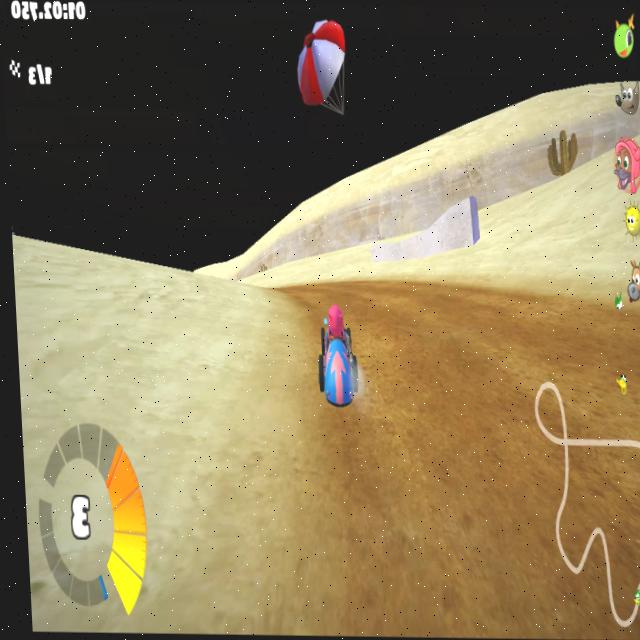player_kart: (314, 304, 363, 407)
track: (358, 311, 640, 640), (337, 272, 638, 319), (322, 410, 374, 639), (253, 273, 338, 300), (291, 297, 326, 317)
